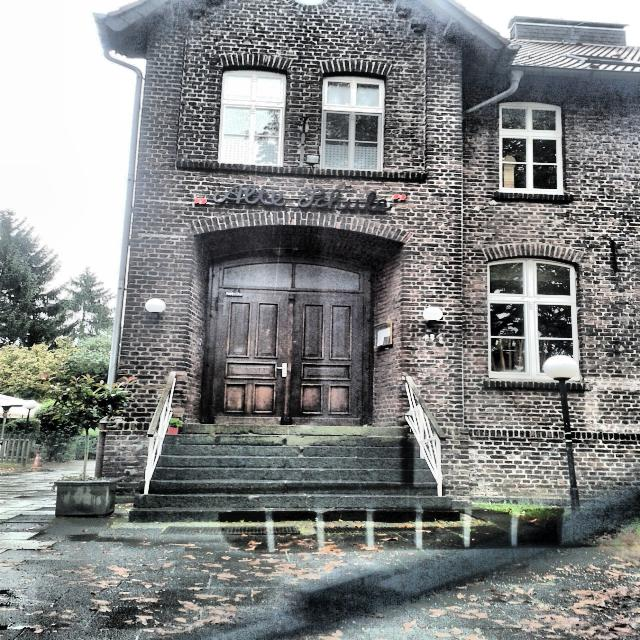escada: (130, 422, 458, 518)
